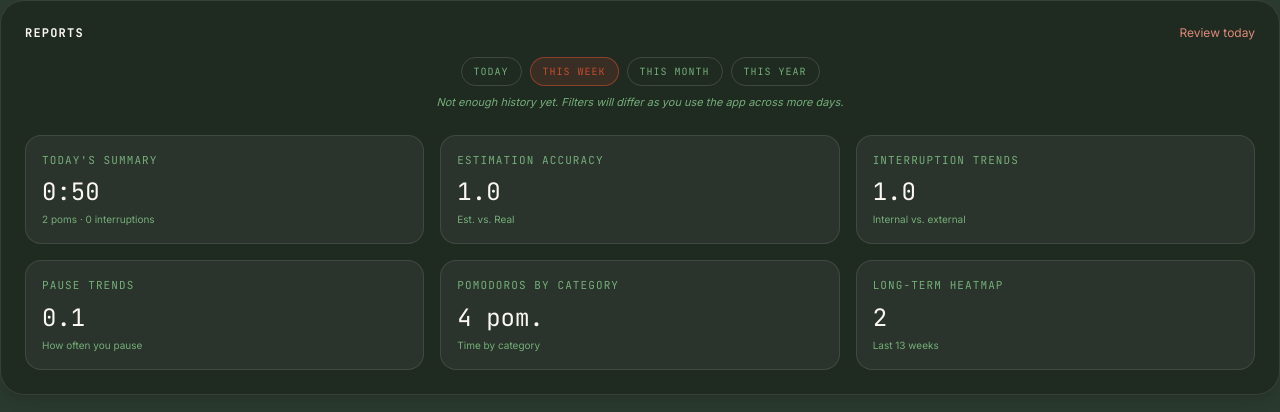
it: Reports › opens a full-page detail view on card click, hiding the menu and every other section
Click the button "Pomodoros by Category 4 pom. Time by category" at (538, 285), box [440,260,840,370]
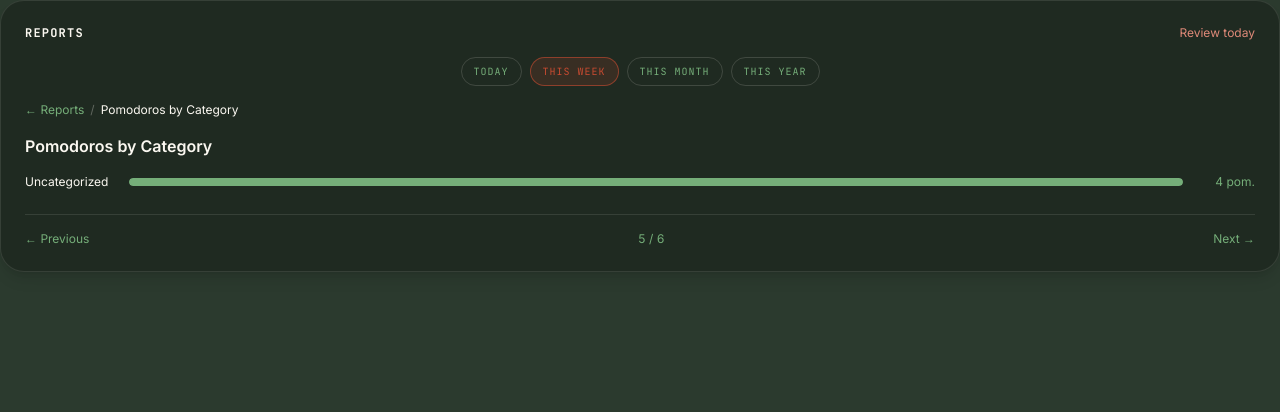
Now the heading "Pomodoros by Category" is shown, box [25,136,212,156]
Now the button "Estimation Accuracy" is gone
Now the button "Today's Summary" is gone
